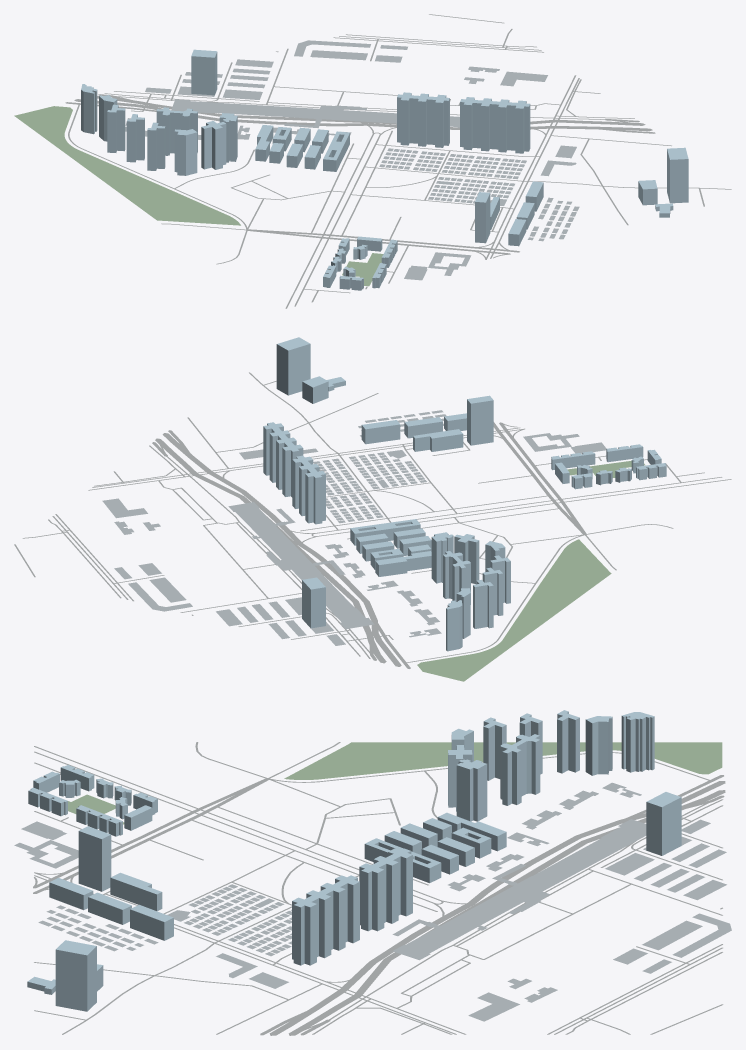
Rendered from -18_5-known-coarse.glb.
The picture shows the model from 3 angles, top to bottom: view 1: azimuth 30°, elevation 25°; view 2: azimuth 150°, elevation 25°; view 3: azimuth 270°, elevation 25°; orthographic projection. The views are drawn at different scales.
Size of the model in its own units: 1006 by 93 by 1038.
